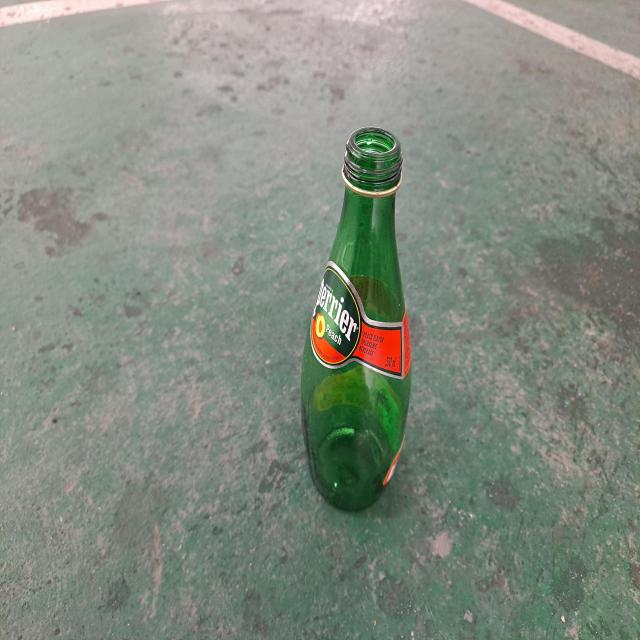glass: (302, 127, 412, 510)
